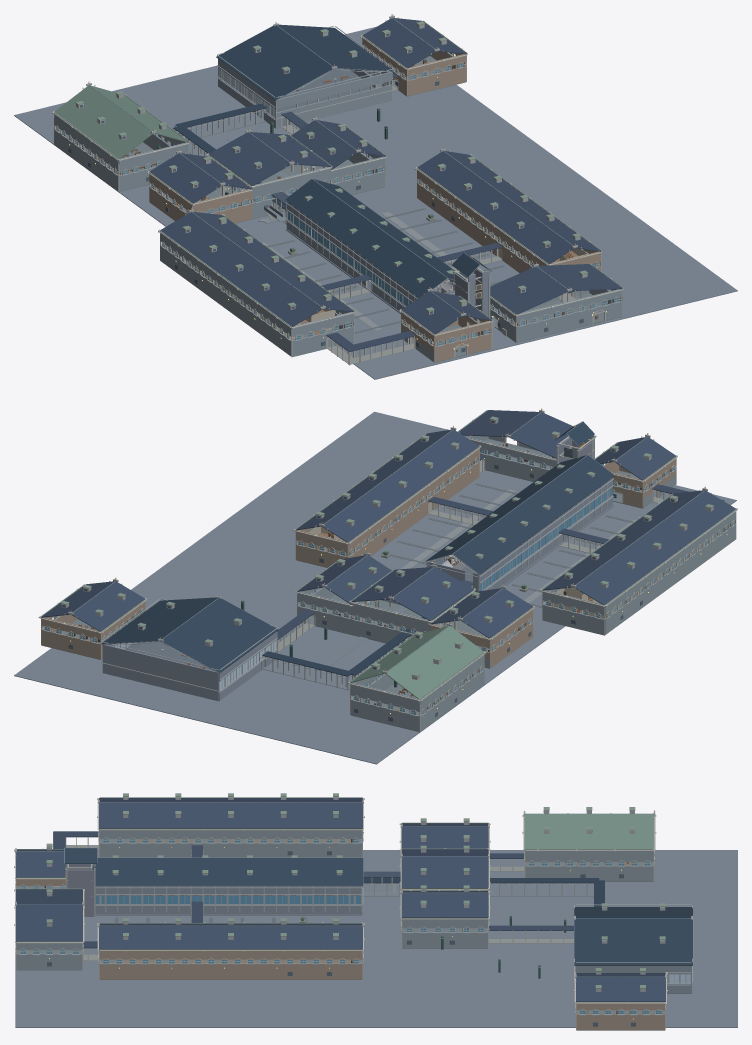
Rendered from lahudi-academy_INTERIOR-FURNITURE-V12.glb.
The picture shows the model from 3 angles, top to bottom: view 1: azimuth 30°, elevation 25°; view 2: azimuth 150°, elevation 25°; view 3: azimuth 270°, elevation 25°; orthographic projection.
Visible parts, largest first — view 1: RG-GAME-02-EXTERIOR-REBUILD-V5__winter_campus_snowbase, RG-GAME-02-EXTERIOR-REBUILD-V5__academic_high_gable_slate_ro (×2), RG-GAME-02-EXTERIOR-REBUILD-V5__library_high_gable_slate_roo (×2), RG-GAME-02-PLAN-LOCK-V9__B_WEST_side_0, RG-GAME-02-PLAN-LOCK-V9__C_EAST_side_0, RG-GAME-02-PLAN-LOCK-V9__G_ASSEMBLY_side_0, RG-GAME-02-PLAN-LOCK-V9__B_WEST_side_1, RG-GAME-02-PLAN-LOCK-V9__B_WEST_west_wall_band_-68.00_24.00 (×2), RG-GAME-02-PLAN-LOCK-V9__E_CENTER_HALL_side_0, RG-GAME-02-PLAN-LOCK-V9__D_EAST_ENTRY_side_0, RG-GAME-02-PLAN-LOCK-V9__C_EAST_west_wall_band_-68.00_24.00 (×2), RG-GAME-02-PLAN-LOCK-V9__F_LIBRARY_SOUTH_REPLACEMENT_wall_ba (×2) (+34 smaller); view 2: RG-GAME-02-EXTERIOR-REBUILD-V5__winter_campus_snowbase, RG-GAME-02-EXTERIOR-REBUILD-V5__academic_high_gable_slate_ro (×2), RG-GAME-02-EXTERIOR-REBUILD-V5__library_high_gable_slate_roo (×2), RG-GAME-02-PLAN-LOCK-V9__B_WEST_side_0, RG-GAME-02-PLAN-LOCK-V9__C_EAST_side_0, RG-GAME-02-EXTERIOR-REBUILD-V5__library_endwall_north, RG-GAME-02-PLAN-LOCK-V9__G_ASSEMBLY_side_0, RG-GAME-02-PLAN-LOCK-V9__B_WEST_side_1, RG-GAME-02-PLAN-LOCK-V9__B_WEST_west_wall_band_-68.00_24.00 (×2), RG-GAME-02-PLAN-LOCK-V9__E_CENTER_HALL_side_0, RG-GAME-02-PLAN-LOCK-V9__C_EAST_west_wall_band_-68.00_24.00 (×2), RG-GAME-02-PLAN-LOCK-V9__C_EAST_side_1 (+35 smaller); view 3: RG-GAME-02-EXTERIOR-REBUILD-V5__winter_campus_snowbase, RG-GAME-02-EXTERIOR-REBUILD-V5__academic_high_gable_slate_ro, RG-GAME-02-PLAN-LOCK-V9__B_WEST_side_1, RG-GAME-02-EXTERIOR-REBUILD-V5__library_high_gable_slate_roo (×2), RG-GAME-02-PLAN-LOCK-V9__C_EAST_side_1, RG-GAME-02-PLAN-LOCK-V9__G_ASSEMBLY_side_1, RG-GAME-02-PLAN-LOCK-V9__C_EAST_east_wall_band_-68.00_24.00 (×2), RG-GAME-02-PLAN-LOCK-V9__B_WEST_east_wall_band_-68.00_24.00 (×2), RG-GAME-02-PLAN-LOCK-V9__E_CENTER_HALL_side_1, RG-GAME-02-PLAN-LOCK-V9__C_EAST_east_low_wall_-68.00_24.00, RG-GAME-02-PLAN-LOCK-V9__D_EAST_ENTRY_side_1, RG-GAME-02-PLAN-LOCK-V9__G_ASSEMBLY_east_wall_band_-170.00_- (×2) (+42 smaller).
Boxes of the visible parts, x1,y1,x2,y2 form: RG-GAME-02-EXTERIOR-REBUILD-V5__winter_campus_snowbase: [14, 26, 737, 379]; RG-GAME-02-EXTERIOR-REBUILD-V5__academic_high_gable_slate_ro (×2): [285, 179, 465, 297]; RG-GAME-02-EXTERIOR-REBUILD-V5__library_high_gable_slate_roo (×2): [216, 24, 393, 100]; RG-GAME-02-PLAN-LOCK-V9__B_WEST_side_0: [160, 212, 322, 326]; RG-GAME-02-PLAN-LOCK-V9__C_EAST_side_0: [417, 151, 574, 264]; RG-GAME-02-PLAN-LOCK-V9__G_ASSEMBLY_side_0: [54, 86, 153, 159]; RG-GAME-02-PLAN-LOCK-V9__B_WEST_side_1: [193, 212, 353, 312]; RG-GAME-02-PLAN-LOCK-V9__B_WEST_west_wall_band_-68.00_24.00 (×2): [160, 231, 291, 347]; RG-GAME-02-PLAN-LOCK-V9__E_CENTER_HALL_side_0: [209, 132, 290, 185]; RG-GAME-02-PLAN-LOCK-V9__D_EAST_ENTRY_side_0: [490, 266, 567, 314]; RG-GAME-02-PLAN-LOCK-V9__C_EAST_west_wall_band_-68.00_24.00 (×2): [417, 168, 548, 269]; RG-GAME-02-PLAN-LOCK-V9__F_LIBRARY_SOUTH_REPLACEMENT_wall_ba (×2): [276, 72, 392, 119]; RG-GAME-02-EXTERIOR-REBUILD-V5__winter_campus_snowbase: [14, 411, 736, 764]; RG-GAME-02-EXTERIOR-REBUILD-V5__academic_high_gable_slate_ro (×2): [426, 455, 614, 574]; RG-GAME-02-EXTERIOR-REBUILD-V5__library_high_gable_slate_roo (×2): [101, 597, 278, 672]; RG-GAME-02-PLAN-LOCK-V9__B_WEST_side_0: [574, 491, 735, 605]; RG-GAME-02-PLAN-LOCK-V9__C_EAST_side_0: [322, 430, 479, 542]; RG-GAME-02-EXTERIOR-REBUILD-V5__library_endwall_north: [102, 644, 219, 701]; RG-GAME-02-PLAN-LOCK-V9__G_ASSEMBLY_side_0: [386, 626, 483, 699]; RG-GAME-02-PLAN-LOCK-V9__B_WEST_side_1: [542, 490, 703, 590]; RG-GAME-02-PLAN-LOCK-V9__B_WEST_west_wall_band_-68.00_24.00 (×2): [604, 509, 736, 625]; RG-GAME-02-PLAN-LOCK-V9__E_CENTER_HALL_side_0: [392, 567, 473, 620]; RG-GAME-02-PLAN-LOCK-V9__C_EAST_west_wall_band_-68.00_24.00 (×2): [348, 447, 479, 557]; RG-GAME-02-PLAN-LOCK-V9__C_EAST_side_1: [296, 429, 451, 530]; RG-GAME-02-EXTERIOR-REBUILD-V5__winter_campus_snowbase: [15, 850, 737, 1027]; RG-GAME-02-EXTERIOR-REBUILD-V5__academic_high_gable_slate_ro: [92, 858, 363, 885]; RG-GAME-02-PLAN-LOCK-V9__B_WEST_side_1: [99, 802, 362, 828]; RG-GAME-02-EXTERIOR-REBUILD-V5__library_high_gable_slate_roo (×2): [574, 907, 692, 965]; RG-GAME-02-PLAN-LOCK-V9__C_EAST_side_1: [99, 926, 362, 949]; RG-GAME-02-PLAN-LOCK-V9__G_ASSEMBLY_side_1: [524, 814, 654, 848]; RG-GAME-02-PLAN-LOCK-V9__C_EAST_east_wall_band_-68.00_24.00 (×2): [99, 951, 362, 970]; RG-GAME-02-PLAN-LOCK-V9__B_WEST_east_wall_band_-68.00_24.00 (×2): [99, 830, 362, 849]; RG-GAME-02-PLAN-LOCK-V9__E_CENTER_HALL_side_1: [401, 856, 488, 888]; RG-GAME-02-PLAN-LOCK-V9__C_EAST_east_low_wall_-68.00_24.00: [99, 970, 362, 979]; RG-GAME-02-PLAN-LOCK-V9__D_EAST_ENTRY_side_1: [16, 904, 82, 941]; RG-GAME-02-PLAN-LOCK-V9__G_ASSEMBLY_east_wall_band_-170.00_- (×2): [525, 851, 653, 872].
Size of the model in its own units: 169 by 26.24 by 253.
